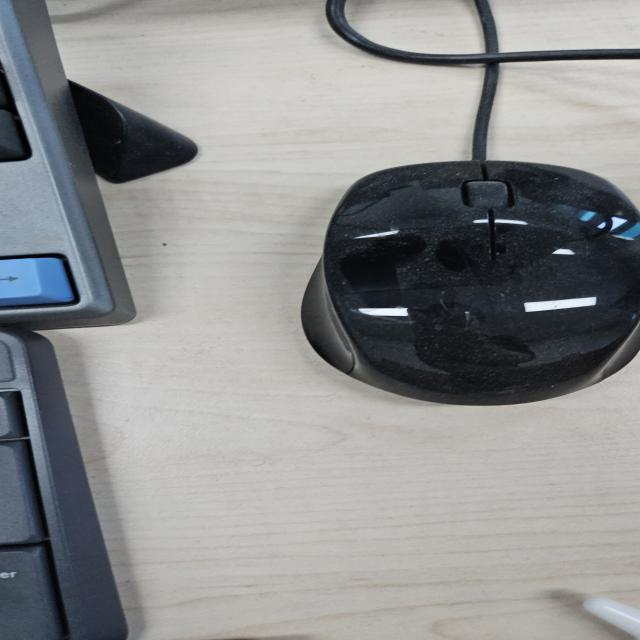Mouse: (297, 158, 637, 406)
